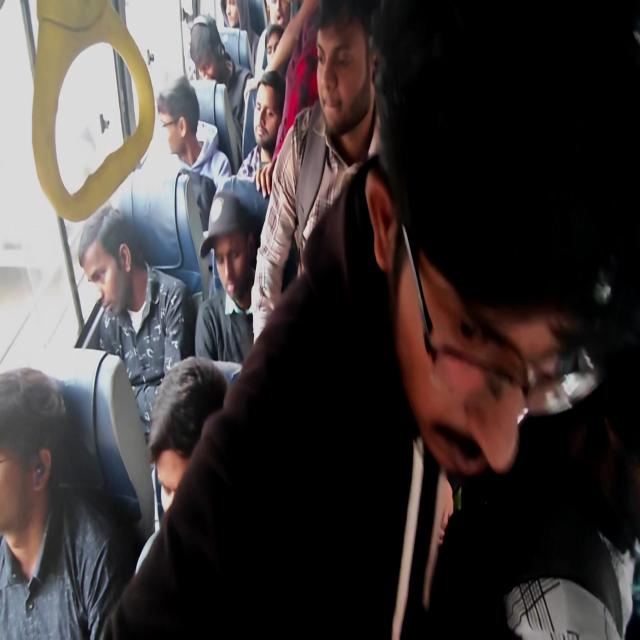person: (98, 0, 632, 638), (424, 342, 638, 639), (250, 0, 382, 348), (0, 365, 132, 639), (78, 203, 192, 442), (146, 354, 228, 520), (194, 184, 267, 364), (156, 76, 232, 188), (188, 13, 252, 137), (235, 69, 286, 190), (220, 0, 259, 68), (262, 22, 285, 72)
